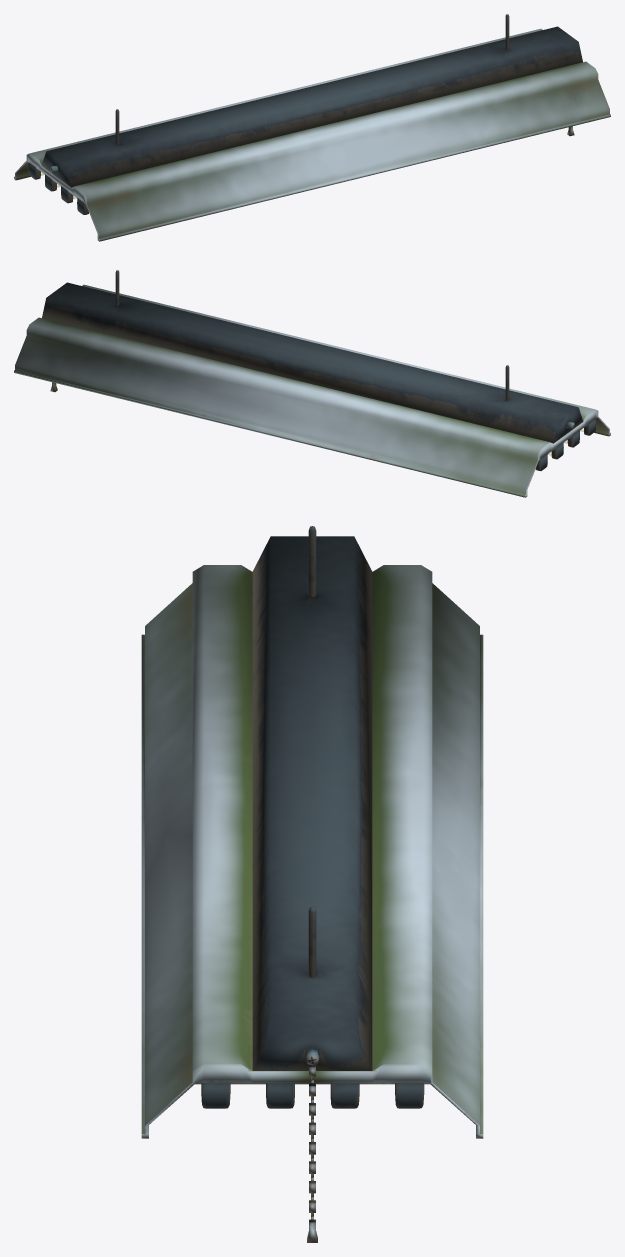
Rendered from florencent_light.glb.
3 views of the same model, one above another, from view 1: azimuth 30°, elevation 25°; view 2: azimuth 150°, elevation 25°; view 3: azimuth 270°, elevation 25° (orthographic). The views are drawn at different scales.
Visible parts, largest first — view 1: florecentlight; view 2: florecentlight; view 3: florecentlight.
Part boxes in pixels (x1,y1,x2,y2): florecentlight: (14, 14, 610, 241); florecentlight: (14, 270, 610, 497); florecentlight: (141, 526, 483, 1242).
Bounding box in the file's own units: 10.06 × 2.5 × 2.85.
Materials: 7 (7 with a texture image).
